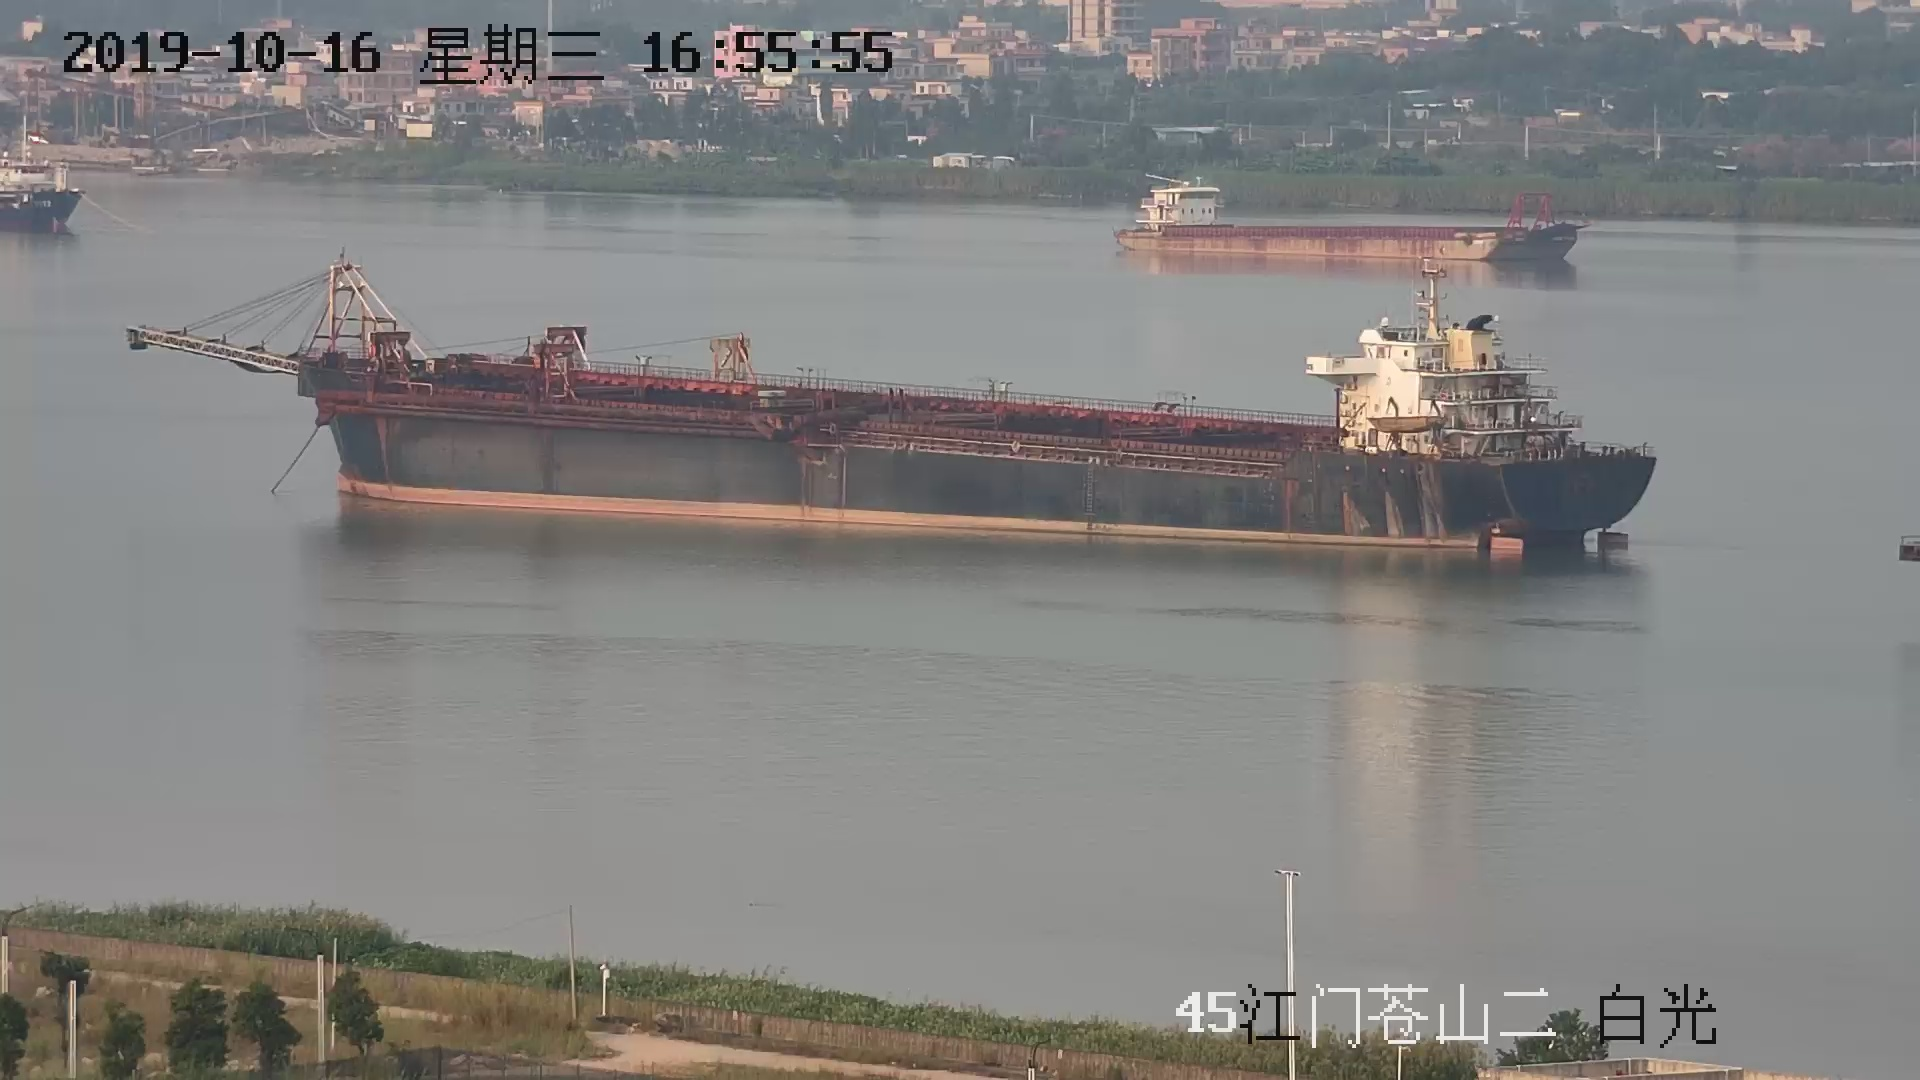ship: (144, 249, 1656, 564), (1106, 179, 1590, 265), (3, 142, 79, 233)
